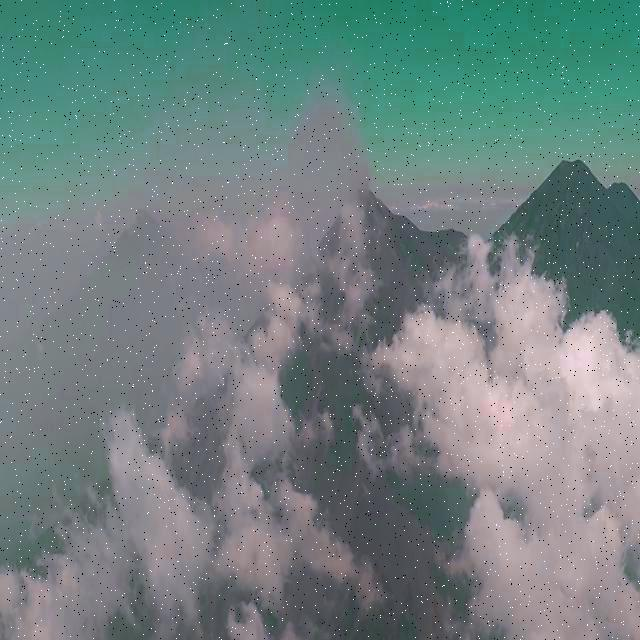Summit: (323, 176, 418, 244)
